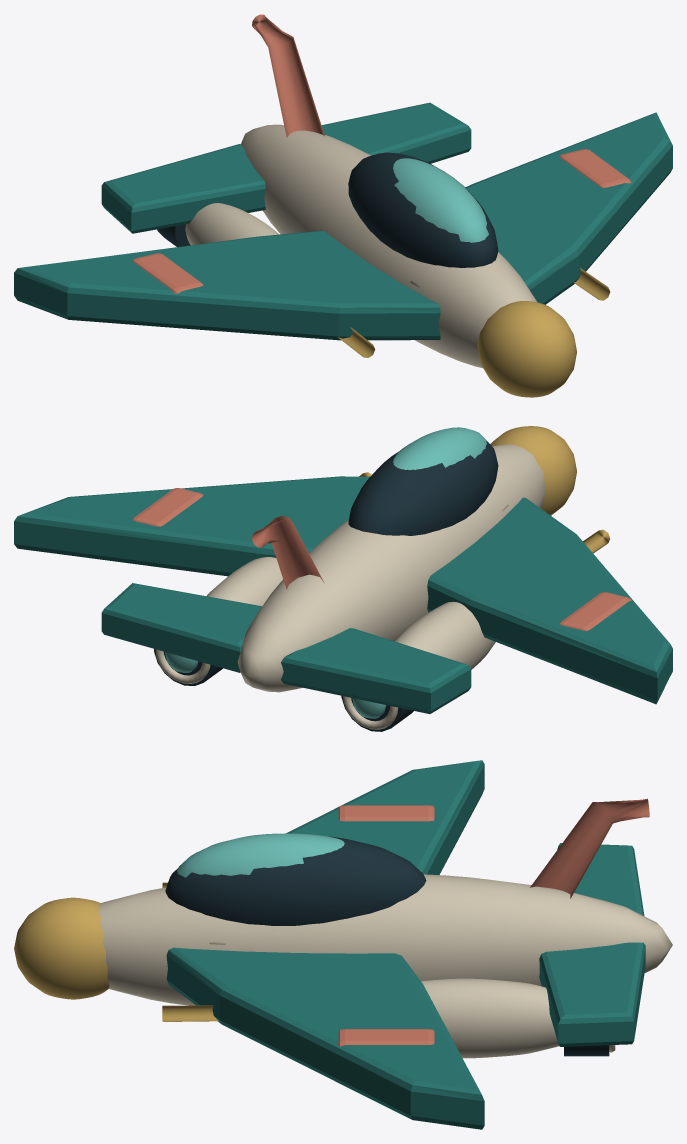
The model's file is defender-plane.glb.
3 renders of one model, top to bottom at view 1: azimuth 30°, elevation 25°; view 2: azimuth 150°, elevation 25°; view 3: azimuth 270°, elevation 25°, orthographic. The views are drawn at different scales.
Visible parts, largest first — view 1: shell, emission; view 2: shell, emission; view 3: shell, emission.
Part boxes in pixels (bbox=[...]): shell: bbox=[14, 14, 672, 397]; emission: bbox=[393, 158, 488, 242]; shell: bbox=[14, 426, 672, 731]; emission: bbox=[165, 427, 488, 718]; shell: bbox=[14, 760, 672, 1129]; emission: bbox=[177, 833, 344, 877].
Bounding box in the file's own units: 2.95 × 0.8648 × 2.44.
